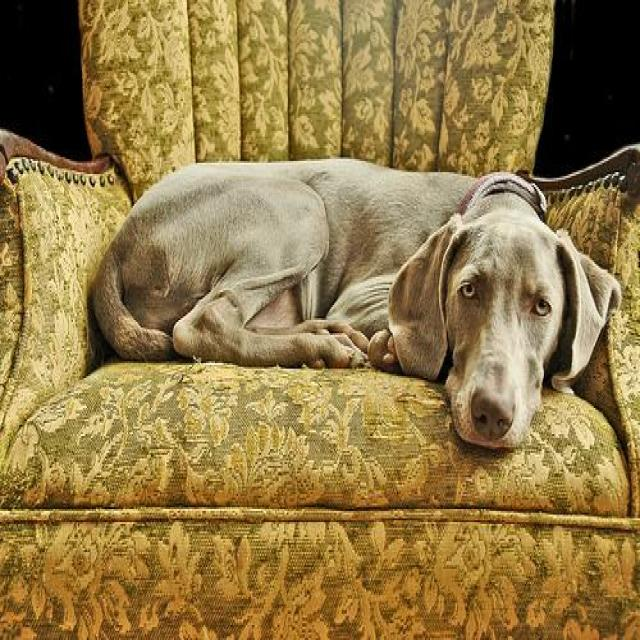relax: (71, 106, 622, 504)
